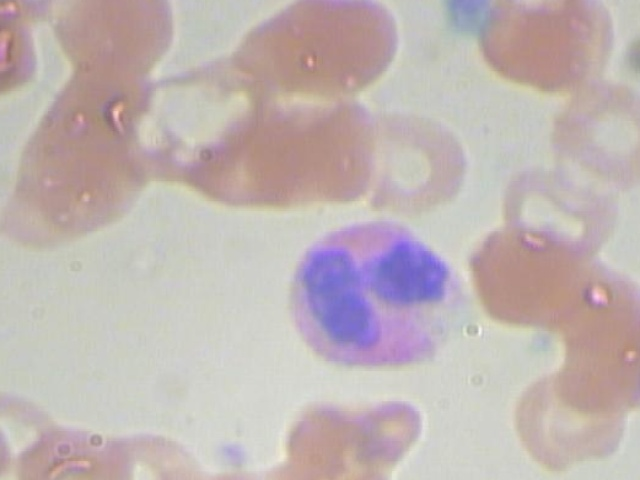Platelets: (206, 431, 260, 471), (435, 0, 491, 34)
RBC: (342, 95, 487, 229), (482, 129, 627, 263), (457, 210, 601, 344), (228, 0, 410, 102), (473, 0, 640, 94), (189, 89, 311, 212), (507, 357, 631, 473), (535, 57, 640, 192), (41, 0, 193, 88), (0, 133, 101, 256), (535, 303, 640, 418), (538, 243, 640, 358), (0, 380, 71, 478), (100, 421, 212, 480), (1, 421, 112, 480), (0, 0, 48, 109), (600, 310, 640, 425)
WBC: (269, 209, 471, 391)
